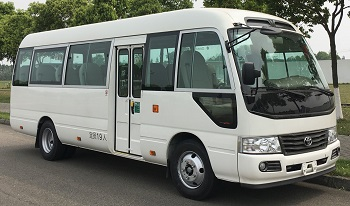midcar: (11, 9, 337, 187)
